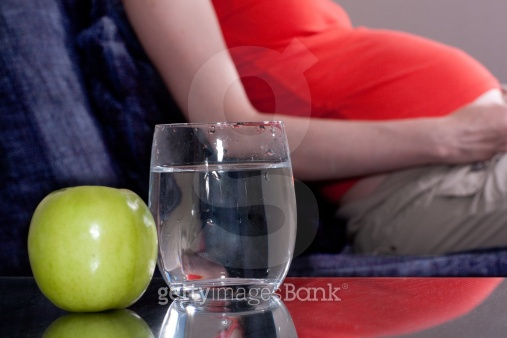glass of water: (149, 119, 302, 311)
